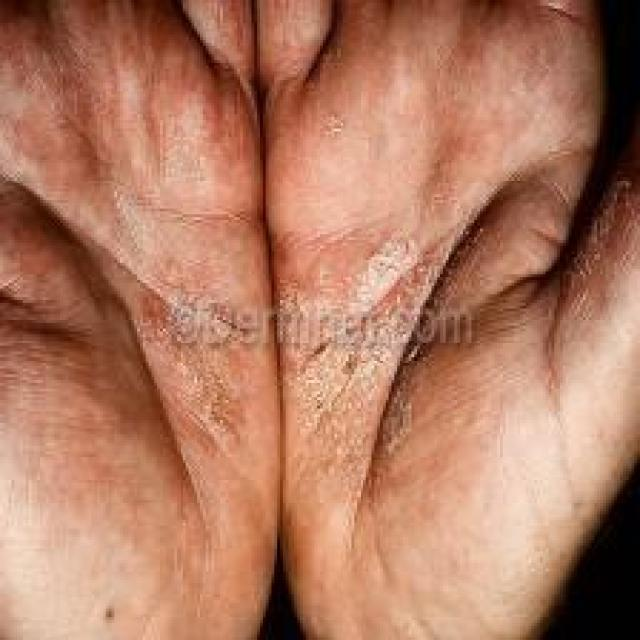Eczema: (290, 185, 631, 531), (20, 62, 273, 442)
